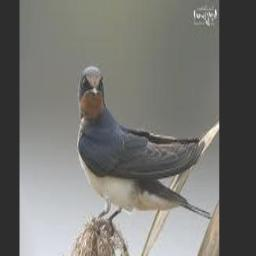Swallow: (76, 65, 214, 221)
